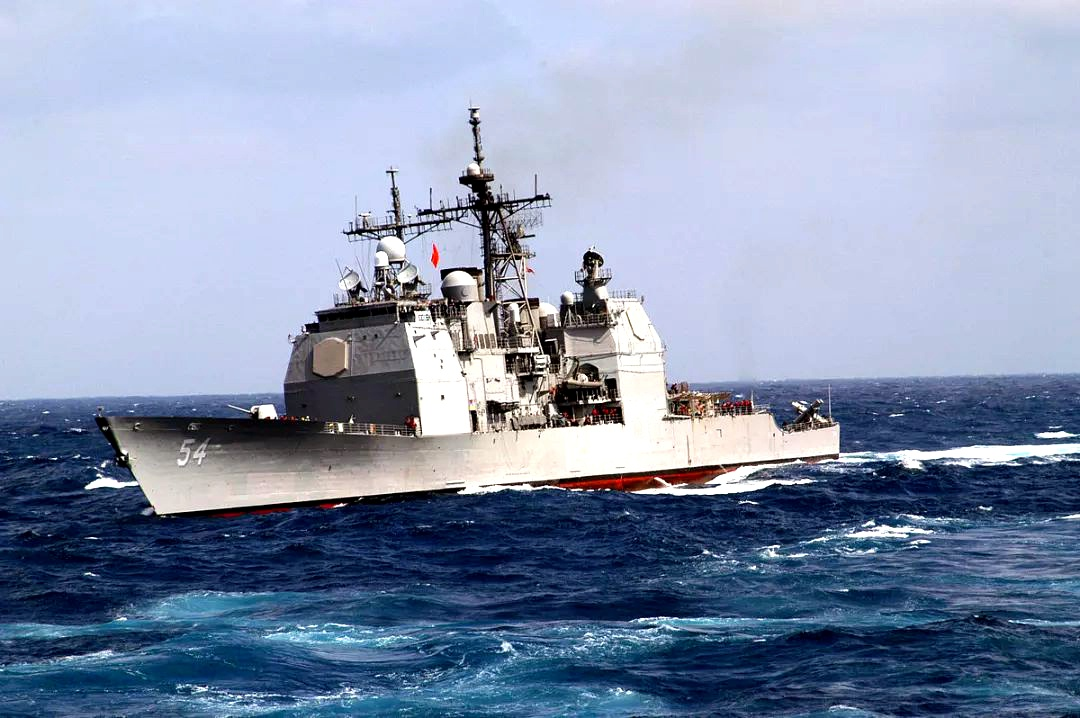warship: (90, 101, 846, 525)
